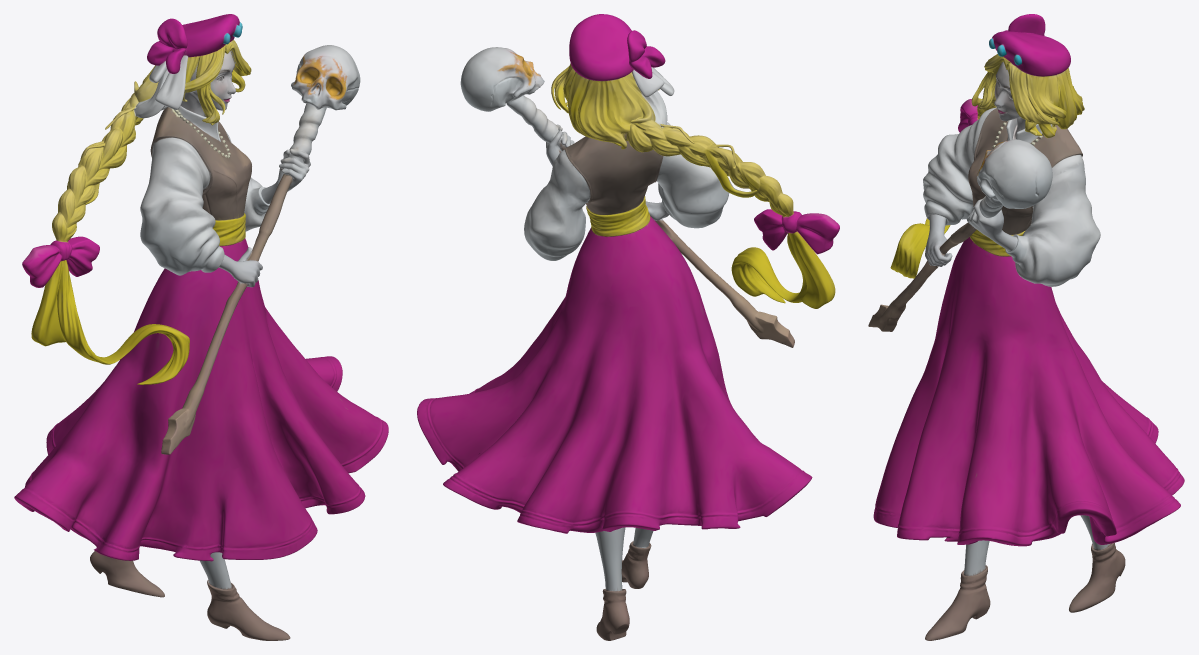
3 views of the same model, side by side, from view 1: azimuth 30°, elevation 25°; view 2: azimuth 150°, elevation 25°; view 3: azimuth 270°, elevation 25° (orthographic). The views are drawn at different scales.
Parts seen in each view (by area): view 1: Meshy_AI_Crimson_Braid_Enchantress_20261120_texture001; view 2: Meshy_AI_Crimson_Braid_Enchantress_20261120_texture001; view 3: Meshy_AI_Crimson_Braid_Enchantress_20261120_texture001.
Part boxes in pixels (x1,y1,x2,y2): Meshy_AI_Crimson_Braid_Enchantress_20261120_texture001: (14,14,388,640); Meshy_AI_Crimson_Braid_Enchantress_20261120_texture001: (417,14,839,640); Meshy_AI_Crimson_Braid_Enchantress_20261120_texture001: (868,14,1184,640).
Size of the model in its own units: 0.1383 by 0.2129 by 0.1025.
